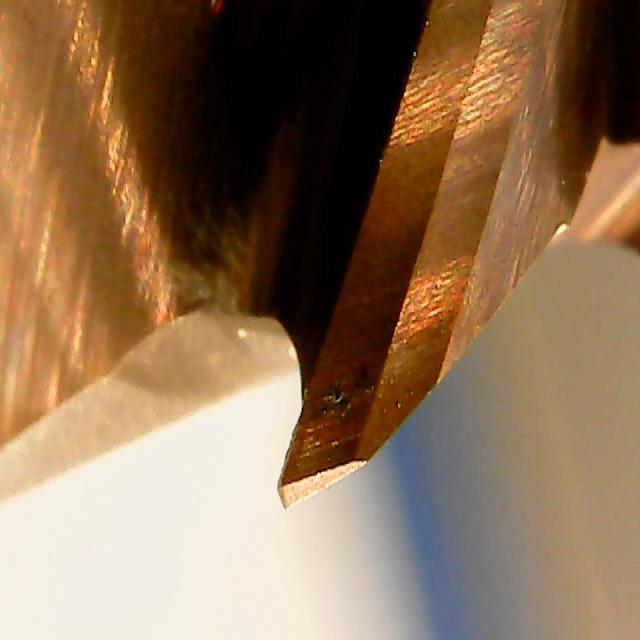Tool-wear-class-0: (260, 290, 426, 518)
